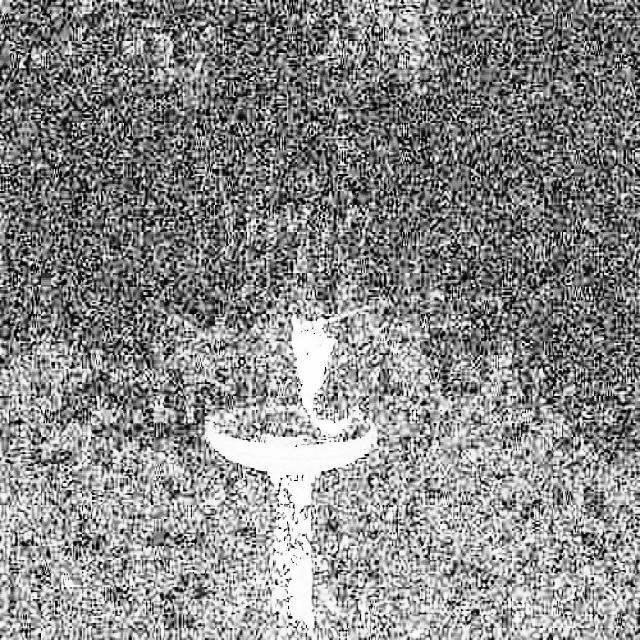Cat: (272, 302, 376, 440)
